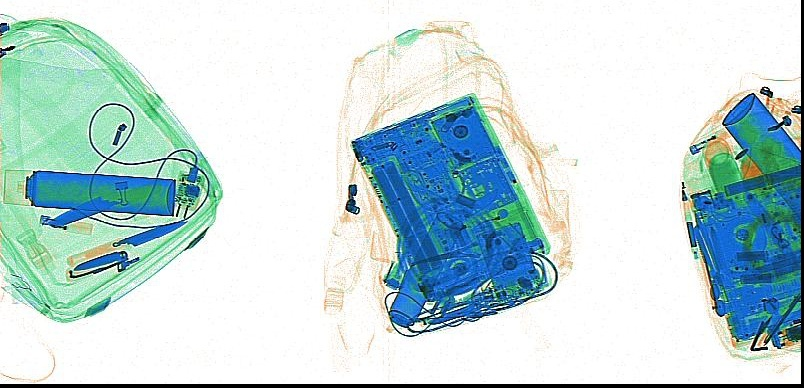knife: (64, 217, 190, 267), (46, 178, 161, 228), (67, 249, 131, 279)
lighter: (686, 123, 742, 157), (38, 212, 94, 235)
pressure: (720, 92, 798, 221), (387, 211, 464, 327), (2, 167, 176, 217)
